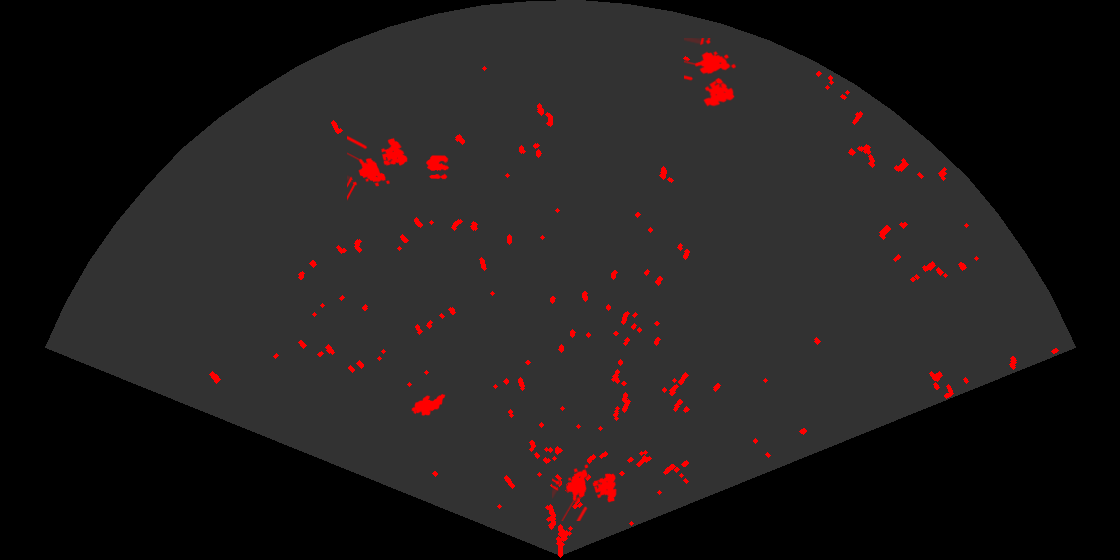AUV: (410, 392, 447, 418)
ball: (425, 154, 451, 181)
cage: (347, 134, 409, 202), (552, 463, 619, 521), (684, 38, 738, 108)
